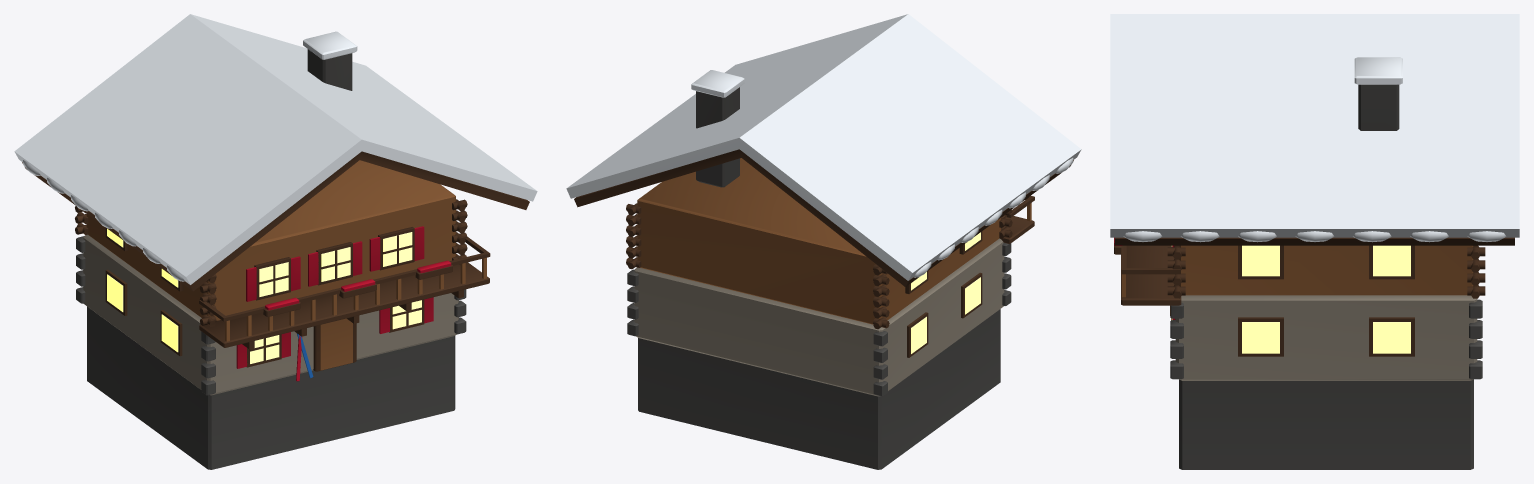
File: lmf_alpine_chalet.glb
3 views of the same model, side by side, from view 1: azimuth 30°, elevation 25°; view 2: azimuth 150°, elevation 25°; view 3: azimuth 270°, elevation 25° (orthographic). The views are drawn at different scales.
Visible parts, largest first — view 1: body; view 2: body; view 3: body.
Part boxes in pixels (x1=…): body: x1=14, y1=14, x2=537, y2=469; body: x1=566, y1=14, x2=1081, y2=469; body: x1=1110, y1=14, x2=1519, y2=469.
Size of the model in its own units: 14.83 by 12.93 by 12.5.
